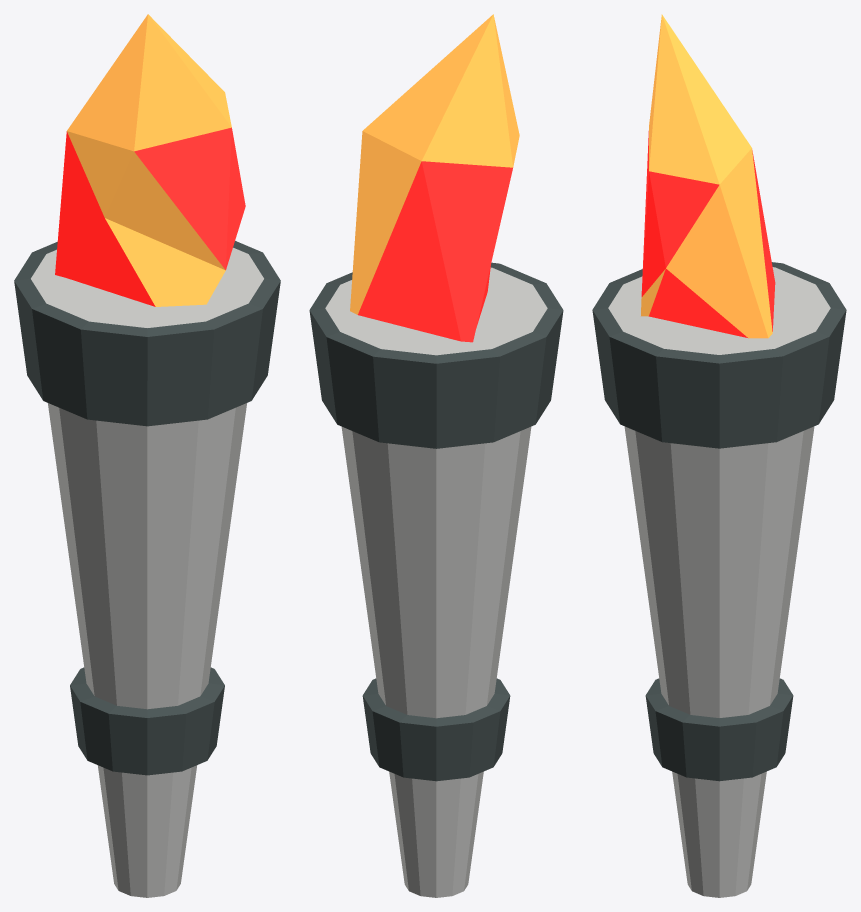
Rendered from Torch_4_White.fbx.
3 views of the same model, side by side, from view 1: azimuth 30°, elevation 25°; view 2: azimuth 150°, elevation 25°; view 3: azimuth 270°, elevation 25° (orthographic). The views are drawn at different scales.
Visible parts, largest first — view 1: Torch_4_White_Part_1, Torch_4_White_Part_2, Torch_4_White_Part_4, Torch_4_White_Part_3; view 2: Torch_4_White_Part_1, Torch_4_White_Part_2, Torch_4_White_Part_4, Torch_4_White_Part_3; view 3: Torch_4_White_Part_1, Torch_4_White_Part_2, Torch_4_White_Part_4, Torch_4_White_Part_3.
Boxes of the visible parts, x1,y1,x2,y2 form: Torch_4_White_Part_1: [31, 247, 263, 897]; Torch_4_White_Part_2: [14, 241, 280, 775]; Torch_4_White_Part_4: [67, 14, 231, 306]; Torch_4_White_Part_3: [55, 127, 245, 306]; Torch_4_White_Part_1: [325, 267, 547, 897]; Torch_4_White_Part_2: [309, 262, 563, 781]; Torch_4_White_Part_4: [350, 14, 519, 314]; Torch_4_White_Part_3: [358, 161, 512, 342]; Torch_4_White_Part_1: [608, 267, 830, 897]; Torch_4_White_Part_2: [592, 262, 846, 781]; Torch_4_White_Part_4: [641, 14, 772, 338]; Torch_4_White_Part_3: [641, 131, 775, 337].
Size of the model in its own units: 15.98 by 59.45 by 15.98.
